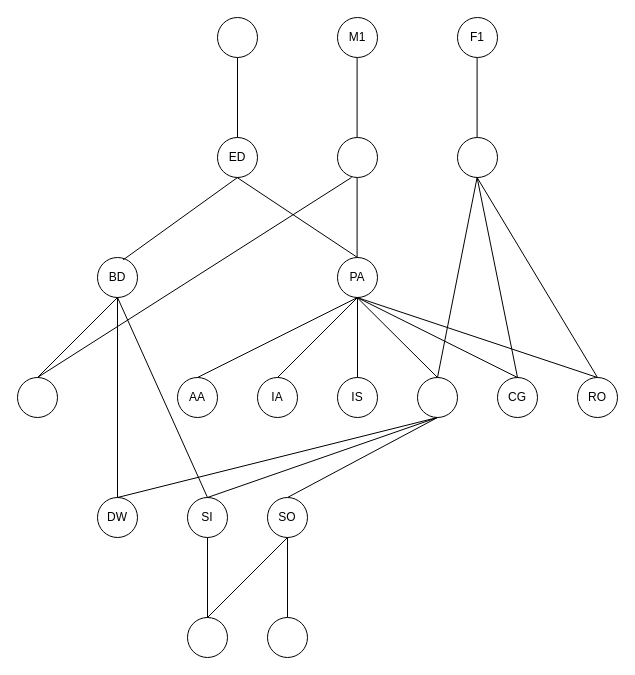
This 635x675 diagram has some shape labels left out. The centre of each missing label's shape, as x and y in pixels:
"BIGD" goes at (37,397).
"CS" goes at (207,637).
"F2" goes at (477,157).
"IP" goes at (237,37).
"M2" goes at (357,157).
"RC" goes at (437,397).
"SD" goes at (287,637).
